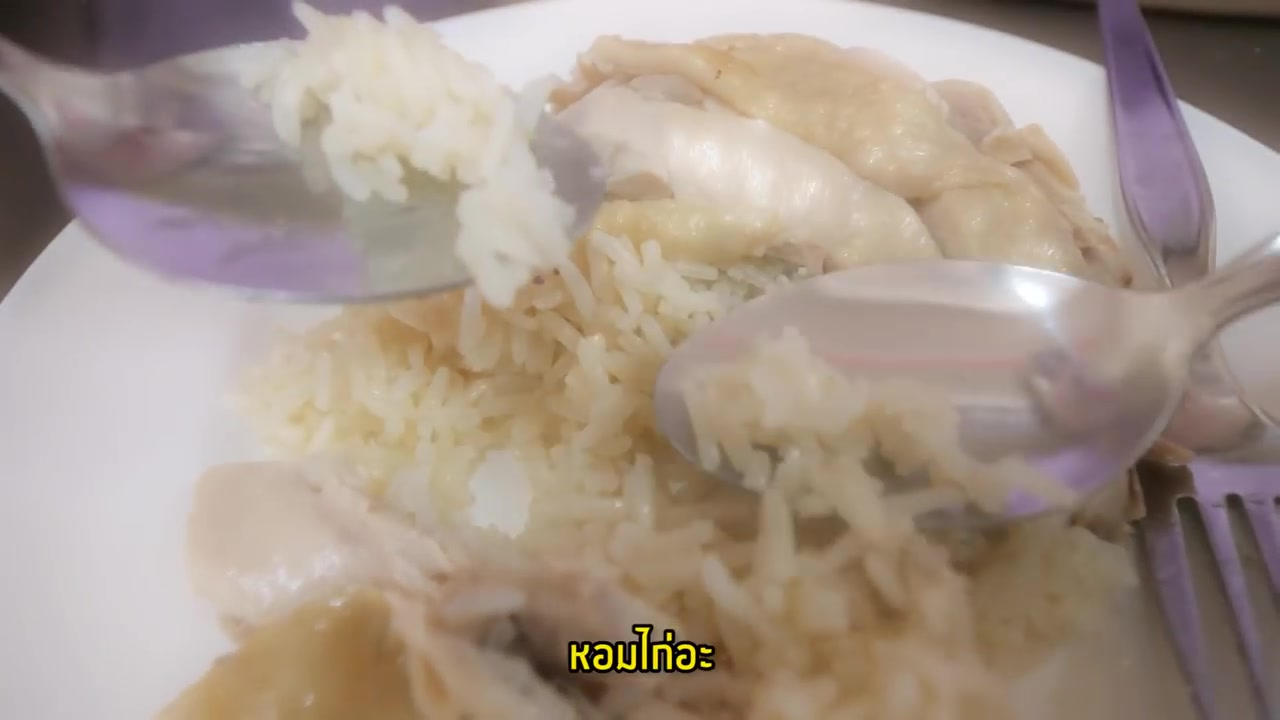text-label: (565, 619, 719, 676)
